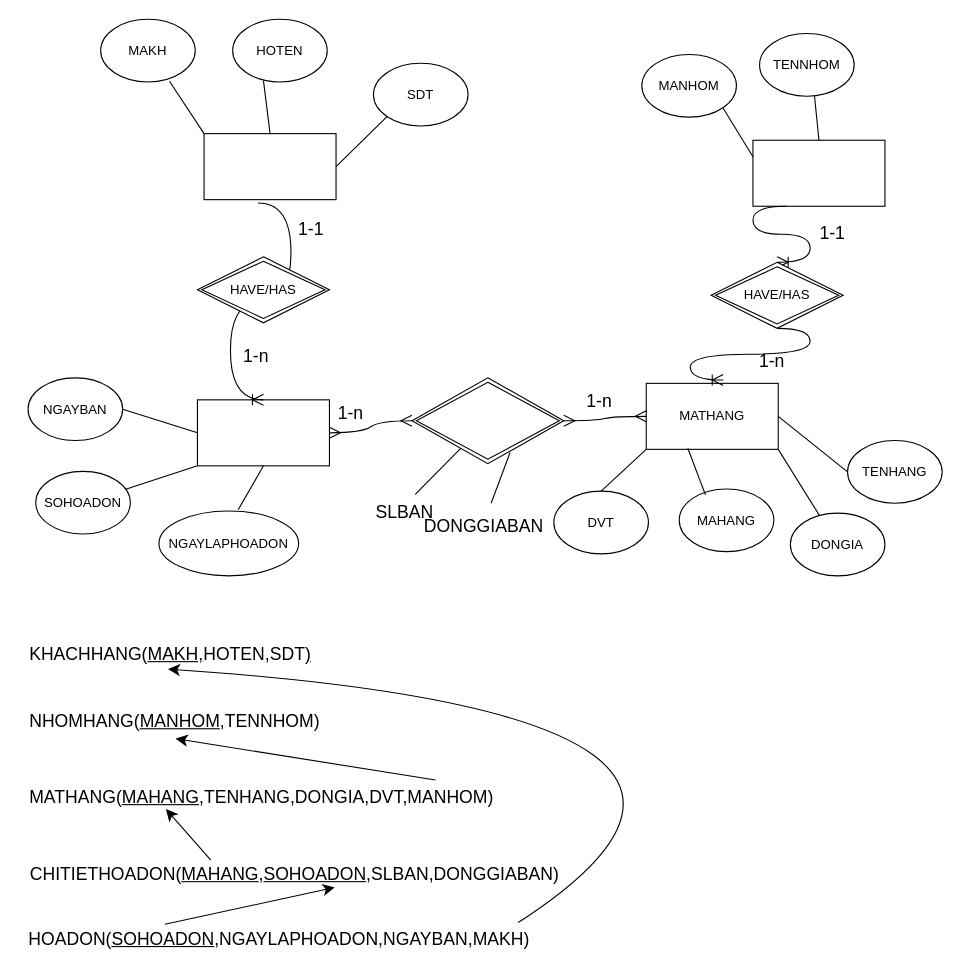
This 961x975 diagram has some shape labels left out. The shapes that lost their labels are listed below. From the top down, each one's box as (x1, y1, x2, y2) in pixels, then its label:
(203, 133, 336, 200): KHACHHANG
(752, 139, 885, 206): NHOMHANG
(196, 399, 329, 466): HOADON
(411, 377, 564, 464): CHITIETHOADON
